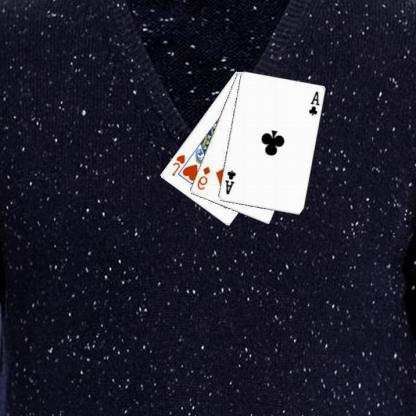6D: (196, 164, 213, 191)
AC: (307, 89, 322, 117), (224, 168, 238, 196)
JH: (170, 152, 188, 177)
